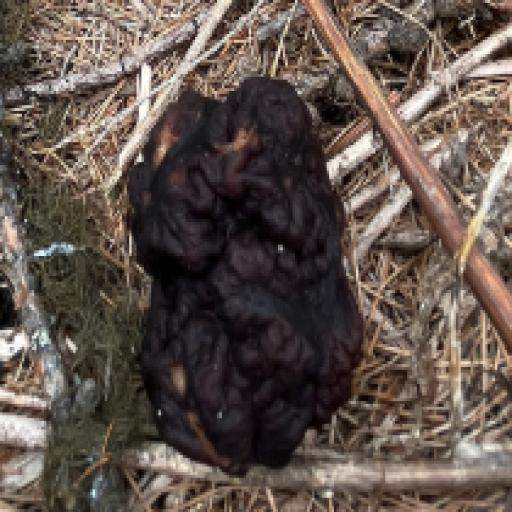mushroom: (120, 67, 376, 476)
